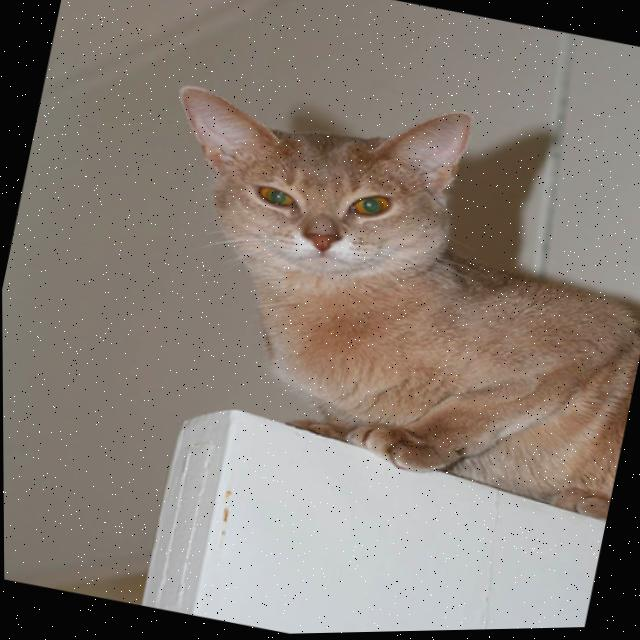Abyssinian: (102, 47, 640, 536)
